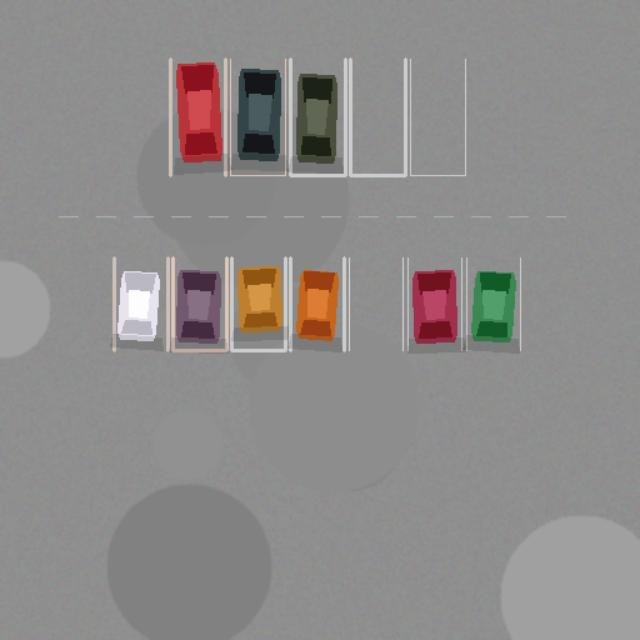space-empty: (350, 59, 405, 175), (410, 59, 465, 175), (349, 257, 402, 350)
space-occupied: (170, 59, 225, 175), (230, 59, 285, 175), (290, 59, 345, 175), (114, 257, 168, 350), (172, 257, 226, 350), (231, 257, 285, 350), (290, 257, 344, 350), (466, 257, 520, 350), (408, 257, 461, 350)
